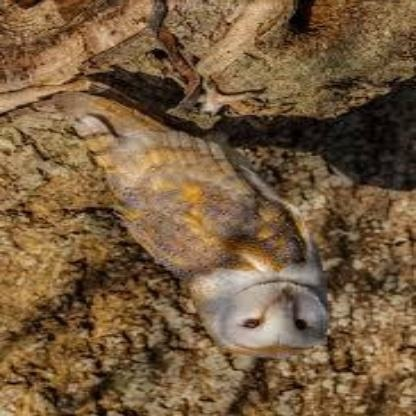Owl: (76, 115, 331, 351)
